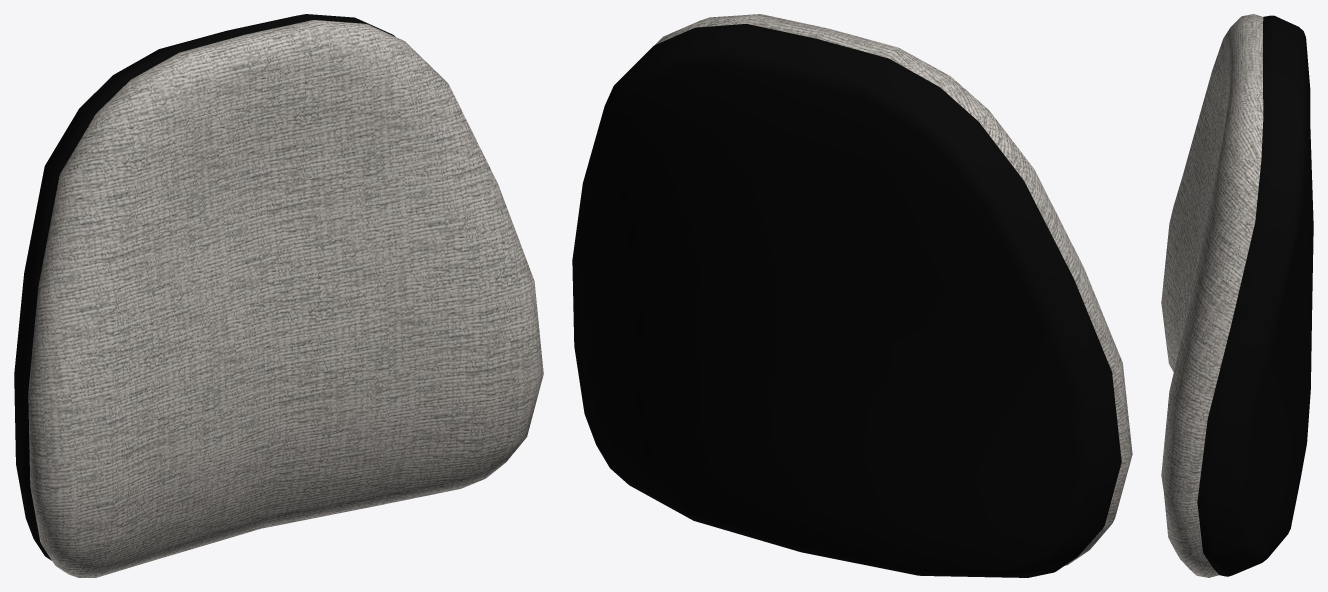
The picture shows the model from 3 angles, left to right: view 1: azimuth 30°, elevation 25°; view 2: azimuth 150°, elevation 25°; view 3: azimuth 270°, elevation 25°; orthographic projection. The views are drawn at different scales.
Parts seen in each view (by area): view 1: part6:backrest (×2); view 2: part6:backrest (×2); view 3: part6:backrest (×2).
Part boxes in pixels (bbox=[...]): part6:backrest (×2): bbox=[14, 14, 543, 577]; part6:backrest (×2): bbox=[572, 14, 1132, 577]; part6:backrest (×2): bbox=[1161, 14, 1313, 577].
Size of the model in its own units: 0.3594 by 0.33 by 0.1013.
Materials: 2 (1 with a texture image).
